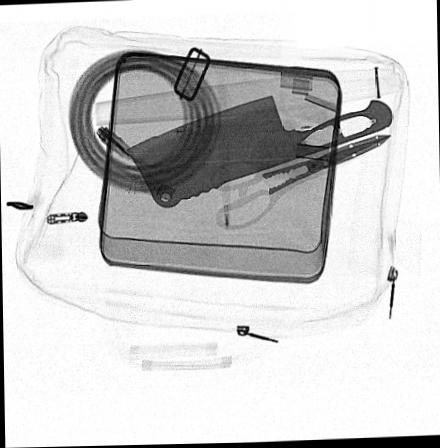Knife: (127, 95, 391, 207)
Scissors: (208, 134, 392, 231)
